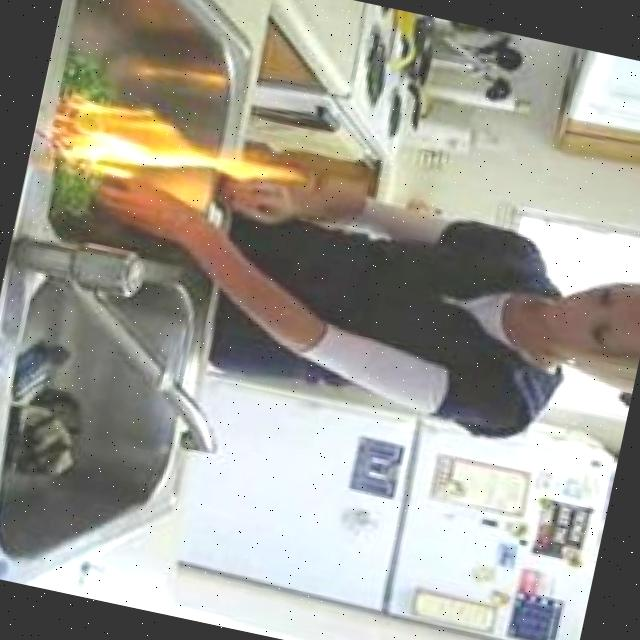fire: (43, 68, 325, 236)
